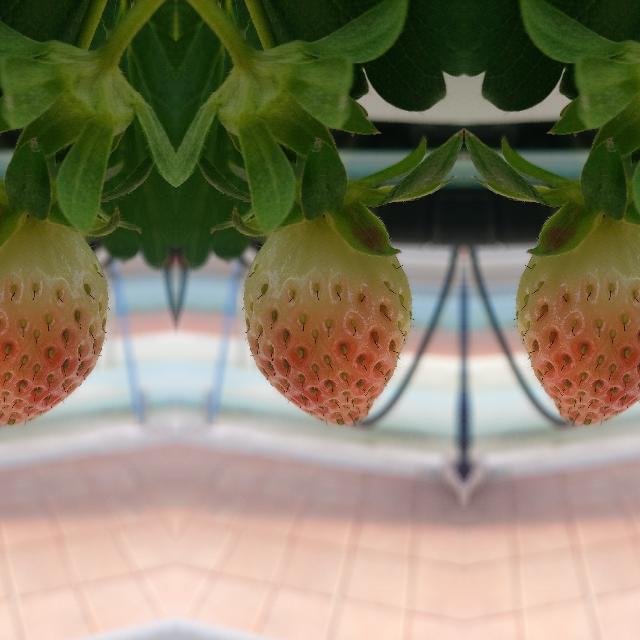Health_75: (242, 218, 410, 424), (515, 217, 640, 424), (0, 217, 108, 424)
